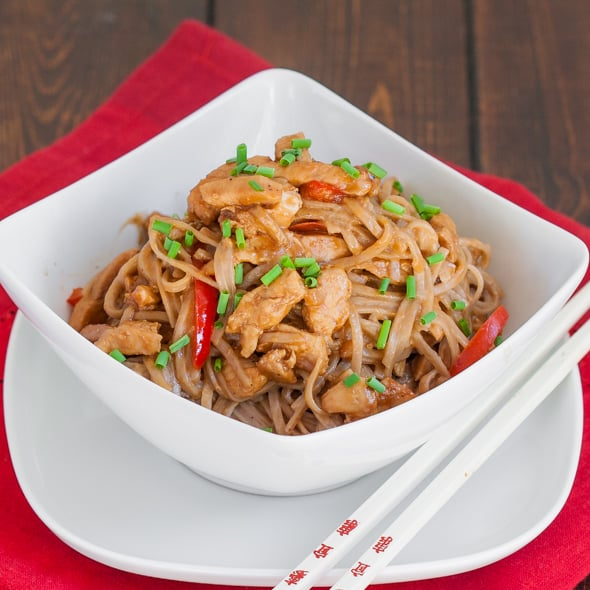Soba: (74, 155, 519, 421)
